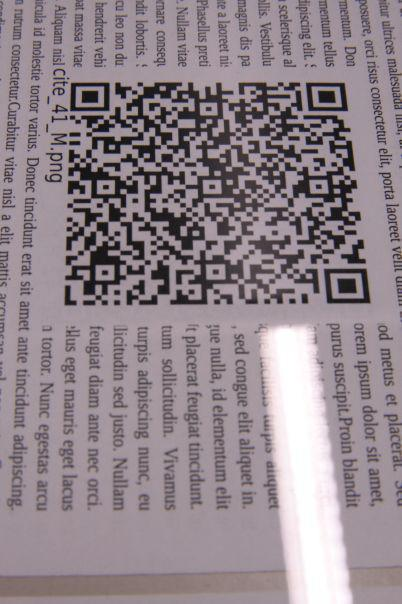Finder pattern: (320, 262, 377, 311), (302, 76, 356, 116), (66, 75, 117, 115)
